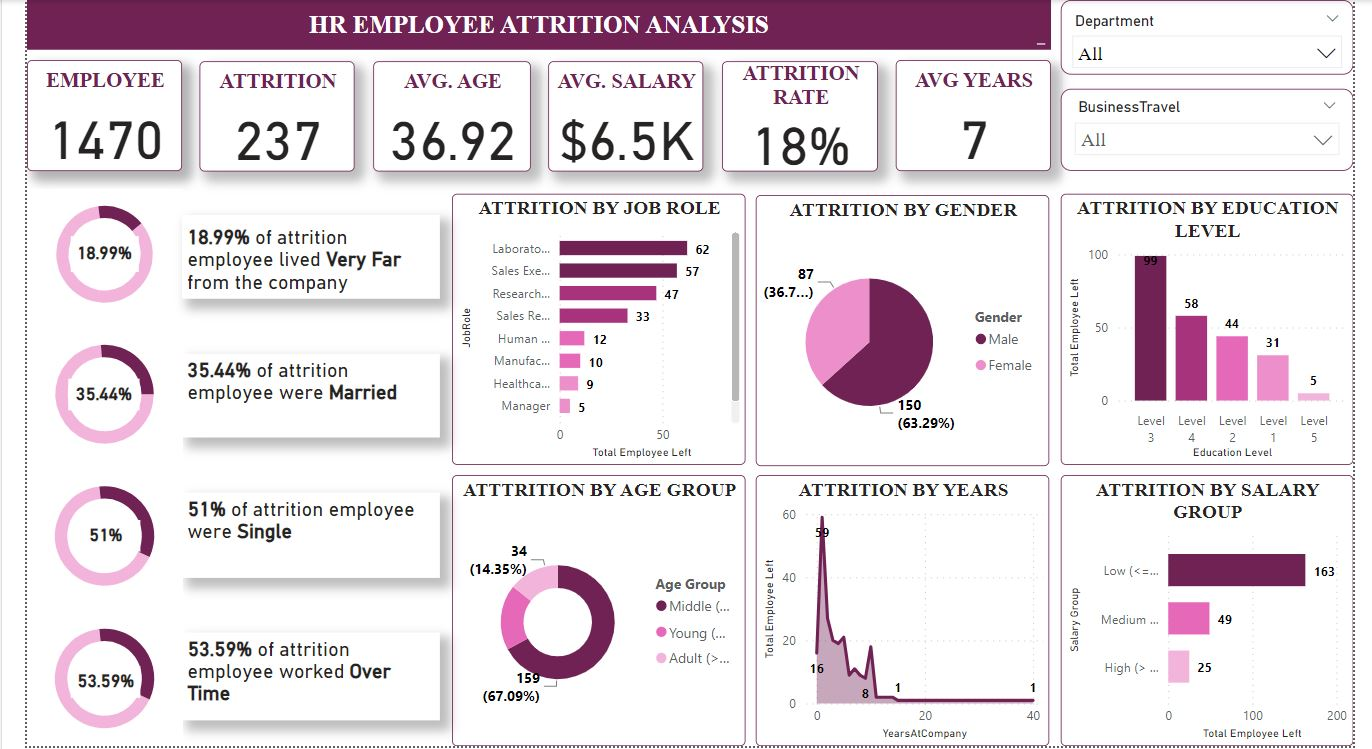

This screenshot's page, from the dashboard's own definition file:
{"tool":"powerbi","page":{"name":"Page 1","canvas":[1280,720],"ordinal":0},"visuals":[{"type":"card","title":" EMPLOYEE","fields":{"Values":["Sum(HR-Employee-Attrition.EmployeeCount)"]},"box":[0,58.3,149.5,107.3],"z":0},{"type":"card","title":"ATTRITION","fields":{"Values":["HR-Employee-Attrition.Total Employee Left"]},"box":[166.6,58.9,149.5,106.1],"z":1000},{"type":"card","title":"AVG. AGE","fields":{"Values":["Avg(HR-Employee-Attrition.Age)"]},"box":[333.6,58.9,152,106.1],"z":2000},{"type":"card","title":"ATTRITION RATE","fields":{"Values":["HR-Employee-Attrition.Attrition Rate"]},"box":[670,58.9,150.8,106.1],"z":3000},{"type":"card","title":"AVG. SALARY","fields":{"Values":["Avg(HR-Employee-Attrition.MonthlyIncome)"]},"box":[503,58.9,149.5,106.1],"z":4000},{"type":"card","title":"AVG YEARS ","fields":{"Values":["Avg(HR-Employee-Attrition.YearsAtCompany)"]},"box":[838.2,58.3,149.5,107.3],"z":5000},{"type":"pieChart","title":"ATTRITION BY GENDER","fields":{"Y":["HR-Employee-Attrition.Total Employee Left"],"Category":["HR-Employee-Attrition.Gender"]},"box":[703.1,188.1,283.4,261.7],"z":6000},{"type":"barChart","title":"ATTRITION BY JOB ROLE","fields":{"Y":["HR-Employee-Attrition.Total Employee Left"],"Category":["HR-Employee-Attrition.JobRole"]},"box":[410.1,186.9,283.4,261.7],"z":7000},{"type":"columnChart","title":"ATTRITION BY EDUCATION LEVEL","fields":{"Y":["HR-Employee-Attrition.Total Employee Left"],"Category":["HR-Employee-Attrition.Education Level"]},"box":[997.4,186.9,282.2,261.7],"z":8000},{"type":"donutChart","title":"ATTTRITION BY AGE GROUP","fields":{"Y":["HR-Employee-Attrition.Total Employee Left"],"Category":["HR-Employee-Attrition.Age Group"]},"box":[410.1,458.3,283.4,261.7],"z":9000},{"type":"areaChart","title":"ATTRITION BY YEARS ","fields":{"Category":["HR-Employee-Attrition.YearsAtCompany"],"Y":["HR-Employee-Attrition.Total Employee Left"]},"box":[703.1,458.3,283.4,261.7],"z":10000},{"type":"barChart","title":"ATTRITION BY SALARY GROUP","fields":{"Y":["HR-Employee-Attrition.Total Employee Left"],"Category":["HR-Employee-Attrition.Salary Group"]},"box":[997.4,458.3,282.2,261.7],"z":11000},{"type":"slicer","fields":{"Values":["HR-Employee-Attrition.Department"]},"box":[997.4,0,282.2,72.4],"z":12000},{"type":"slicer","fields":{"Values":["HR-Employee-Attrition.BusinessTravel"]},"box":[997.4,85.6,282.2,79.6],"z":13000},{"type":"textbox","title":"HR EMPLOYEE ATTRITION ANALYSIS","box":[0,0,987.7,48.2],"z":14000},{"type":"donutChart","fields":{"Y":["HR-Employee-Attrition.Percentage T.A.D.F.H","HR-Employee-Attrition.Percentage Attrition Distance From Home"]},"box":[0,182.5,150,126.2],"z":15000},{"type":"textbox","box":[150,208,249,81],"z":16000},{"type":"card","fields":{"Values":["HR-Employee-Attrition.Percentage Attrition Distance From Home"]},"box":[42.4,228.5,65.3,34.1],"z":17000},{"type":"textbox","box":[150,341.5,249,81],"z":18000},{"type":"textbox","box":[150,475,248.8,82.5],"z":19000},{"type":"donutChart","fields":{"Y":["HR-Employee-Attrition.Percentage Attrition","HR-Employee-Attrition.Percentage attrition married employee"]},"box":[0,316.2,150,128.8],"z":20000},{"type":"textbox","box":[150,610,248.8,85],"z":21000},{"type":"card","fields":{"Values":["HR-Employee-Attrition.Percentage attrition married employee"]},"box":[39.8,365.4,68.7,30.2],"z":22000},{"type":"donutChart","fields":{"Y":["HR-Employee-Attrition.Percentage Attrition","HR-Employee-Attrition.Percentage Total Attrition Single"]},"box":[0,452.5,150,130],"z":23000},{"type":"donutChart","fields":{"Y":["HR-Employee-Attrition.Percentage Attrition","HR-Employee-Attrition.Percentage Total Attrition Single"]},"box":[0,590,150,130],"z":24000},{"type":"card","fields":{"Values":["HR-Employee-Attrition.Percentage Total Attrition Single"]},"box":[42.2,501.7,65.1,30.2],"z":25000},{"type":"card","fields":{"Values":["HR-Employee-Attrition.Percentage Attrition Overtime"]},"box":[42.2,642.8,65.1,30.2],"z":26000}]}

Visuals, with their boxes on the page's 1280x720 design canvas (x1, y1, x2, y2). These are canvas units, not pixel positions in the 1372x749 screenshot, which may show the page scaled, cropped or inside an application window:
" EMPLOYEE" card: bbox(0, 58, 150, 166)
"ATTRITION" card: bbox(167, 59, 316, 165)
"AVG. AGE" card: bbox(334, 59, 486, 165)
"ATTRITION RATE" card: bbox(670, 59, 821, 165)
"AVG. SALARY" card: bbox(503, 59, 652, 165)
"AVG YEARS " card: bbox(838, 58, 988, 166)
"ATTRITION BY GENDER" pieChart: bbox(703, 188, 986, 450)
"ATTRITION BY JOB ROLE" barChart: bbox(410, 187, 694, 449)
"ATTRITION BY EDUCATION LEVEL" columnChart: bbox(997, 187, 1280, 449)
"ATTTRITION BY AGE GROUP" donutChart: bbox(410, 458, 694, 720)
"ATTRITION BY YEARS " areaChart: bbox(703, 458, 986, 720)
"ATTRITION BY SALARY GROUP" barChart: bbox(997, 458, 1280, 720)
slicer - HR-Employee-Attrition.Department: bbox(997, 0, 1280, 72)
slicer - HR-Employee-Attrition.BusinessTravel: bbox(997, 86, 1280, 165)
"HR EMPLOYEE ATTRITION ANALYSIS" textbox: bbox(0, 0, 988, 48)
donutChart - HR-Employee-Attrition.Percentage T.A.D.F.H x HR-Employee-Attrition.Percentage Attrition Distance From Home: bbox(0, 182, 150, 309)
textbox: bbox(150, 208, 399, 289)
card - HR-Employee-Attrition.Percentage Attrition Distance From Home: bbox(42, 228, 108, 263)
textbox: bbox(150, 342, 399, 422)
textbox: bbox(150, 475, 399, 558)
donutChart - HR-Employee-Attrition.Percentage Attrition x HR-Employee-Attrition.Percentage attrition married employee: bbox(0, 316, 150, 445)
textbox: bbox(150, 610, 399, 695)
card - HR-Employee-Attrition.Percentage attrition married employee: bbox(40, 365, 108, 396)
donutChart - HR-Employee-Attrition.Percentage Attrition x HR-Employee-Attrition.Percentage Total Attrition Single: bbox(0, 452, 150, 582)
donutChart - HR-Employee-Attrition.Percentage Attrition x HR-Employee-Attrition.Percentage Total Attrition Single: bbox(0, 590, 150, 720)
card - HR-Employee-Attrition.Percentage Total Attrition Single: bbox(42, 502, 107, 532)
card - HR-Employee-Attrition.Percentage Attrition Overtime: bbox(42, 643, 107, 673)
